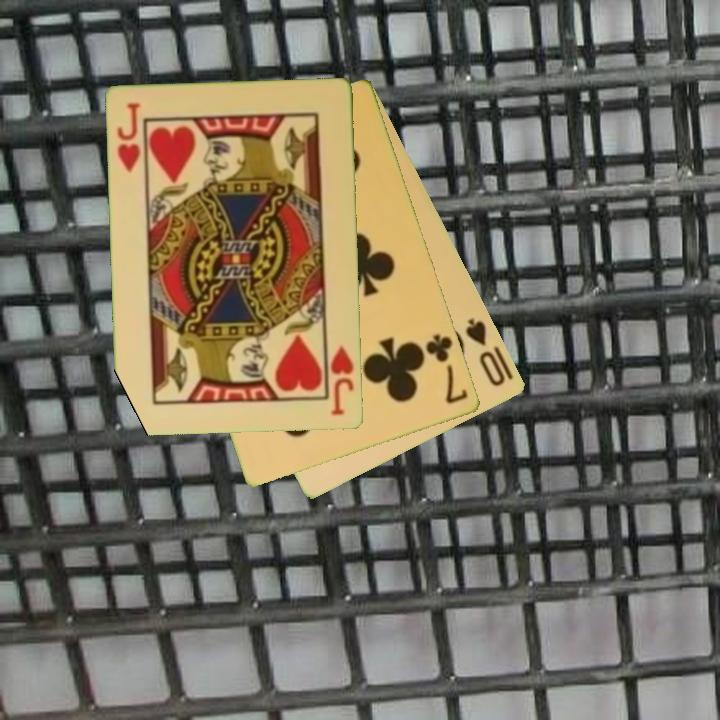10s: (462, 314, 509, 390)
7c: (422, 330, 471, 407)
Jh: (327, 342, 357, 419), (114, 100, 144, 176)
